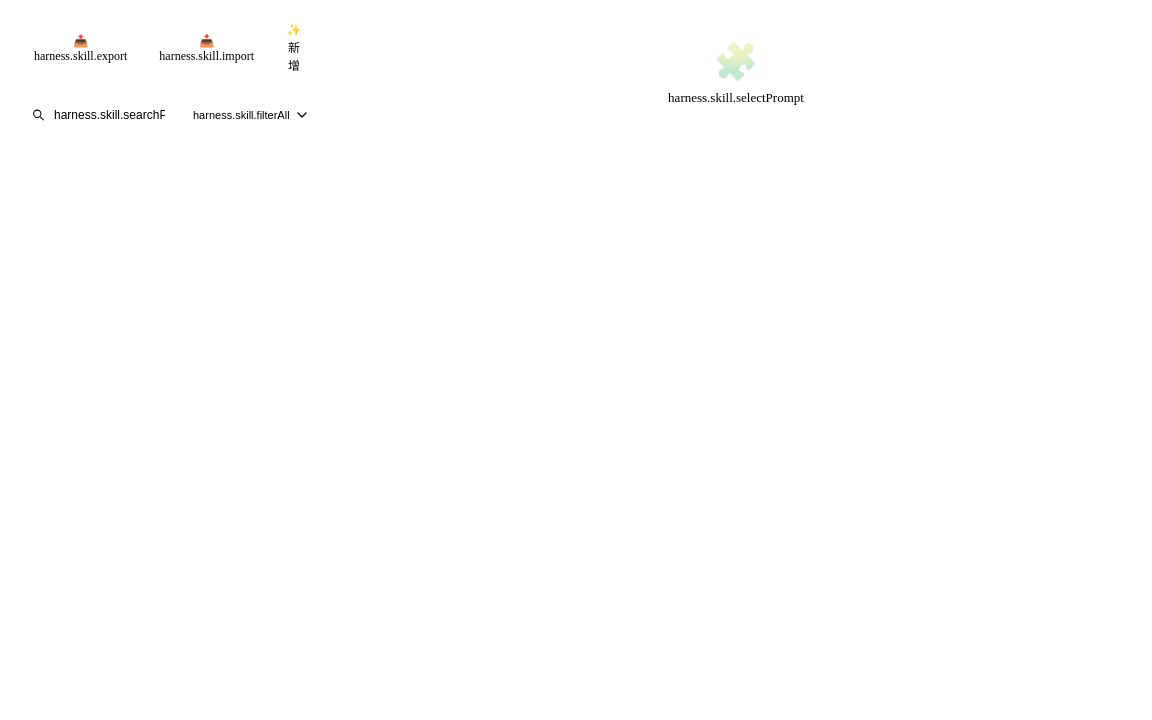
SkillTab integration › 「✨ 新增」按鈕可開啟 SkillCreateModal
The image size is (1152, 720).
Click the button "✨ 新增". click: coordinates (294, 48)
box: [274, 18, 314, 79]
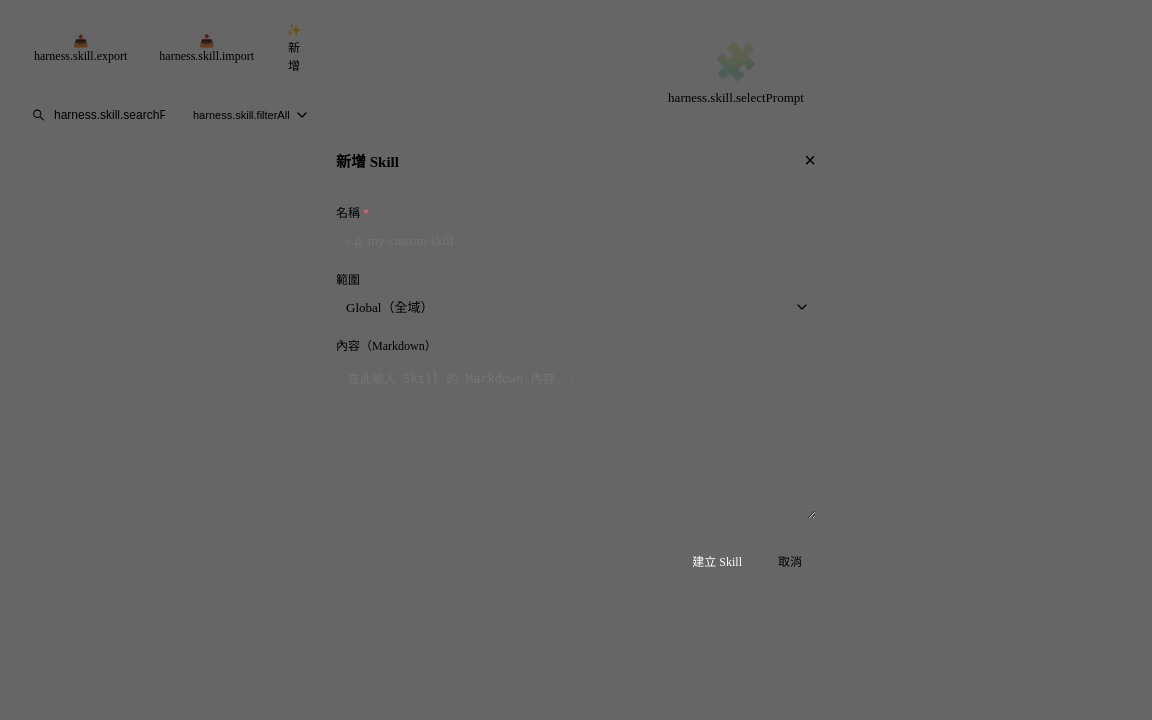
Expected: the element with class "modal-overlay" is shown
